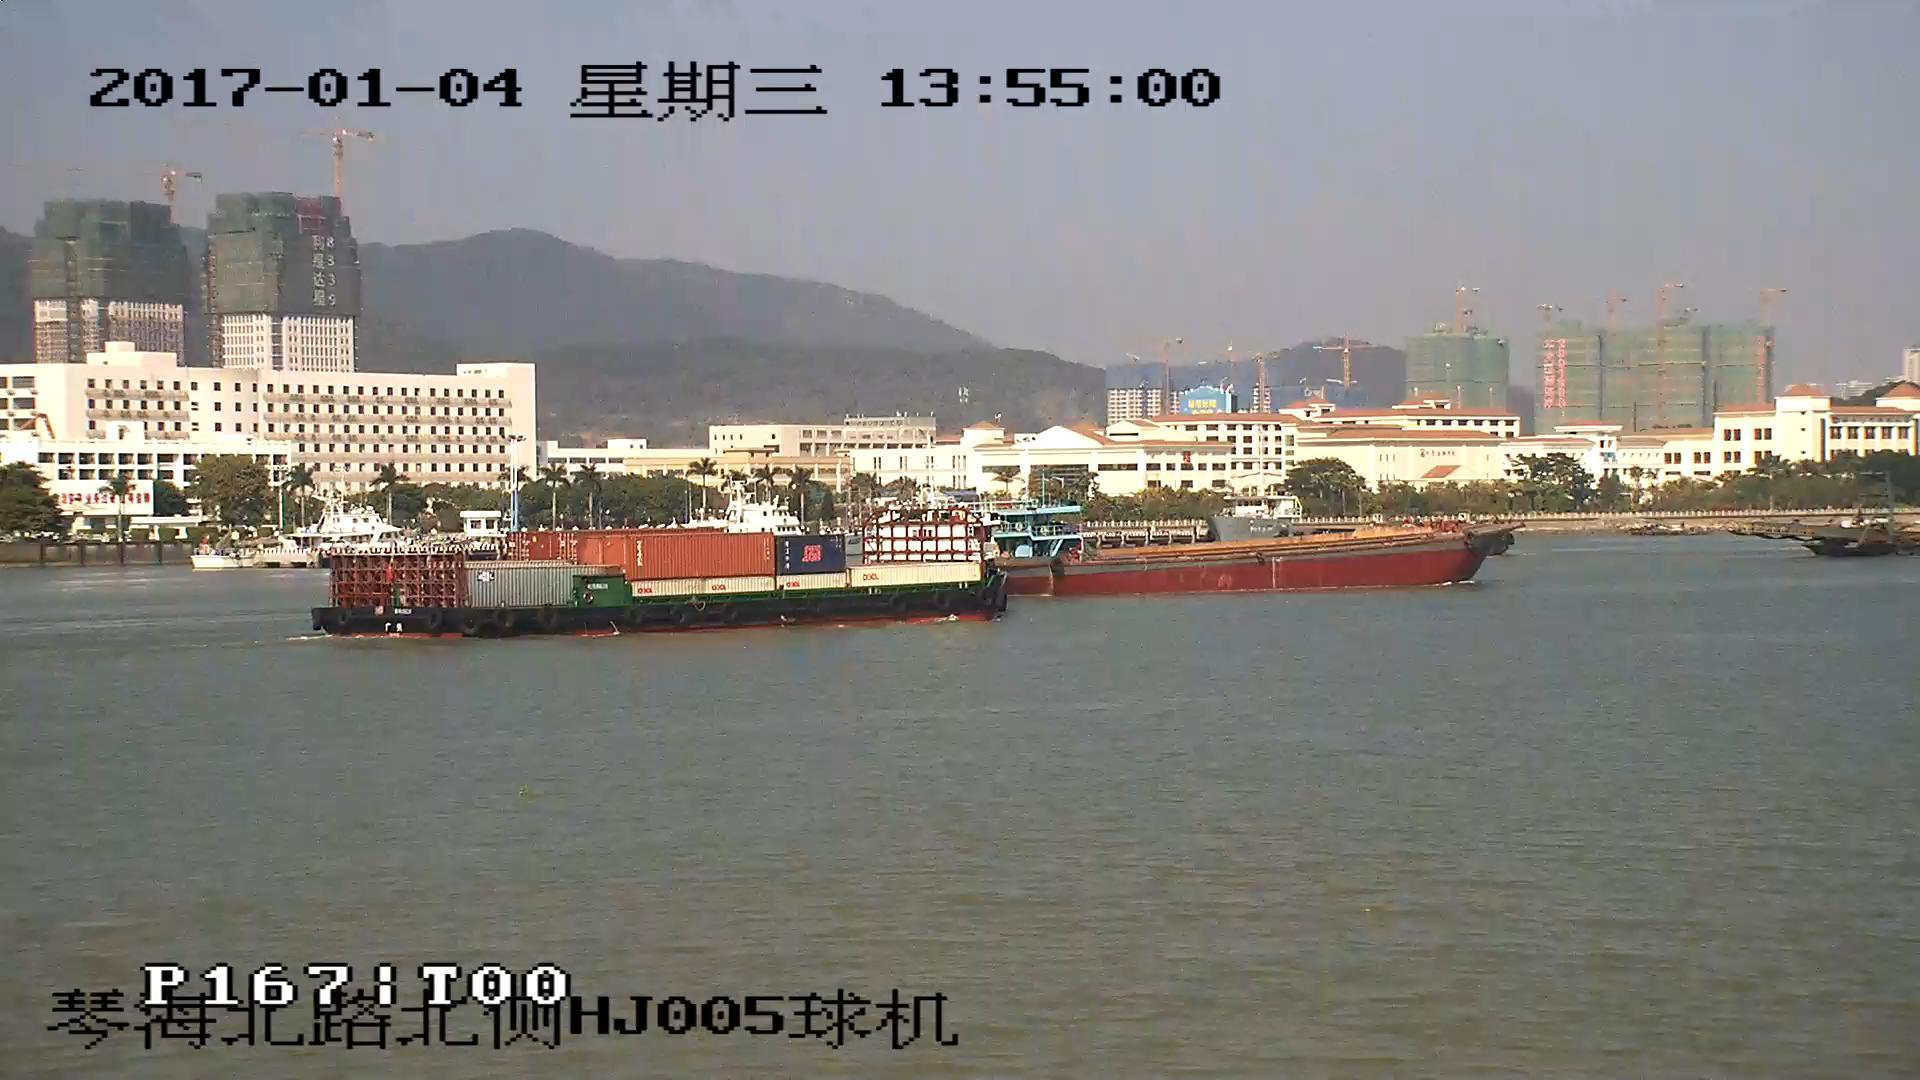Ship: (315, 509, 1004, 641), (1004, 524, 1520, 593)
